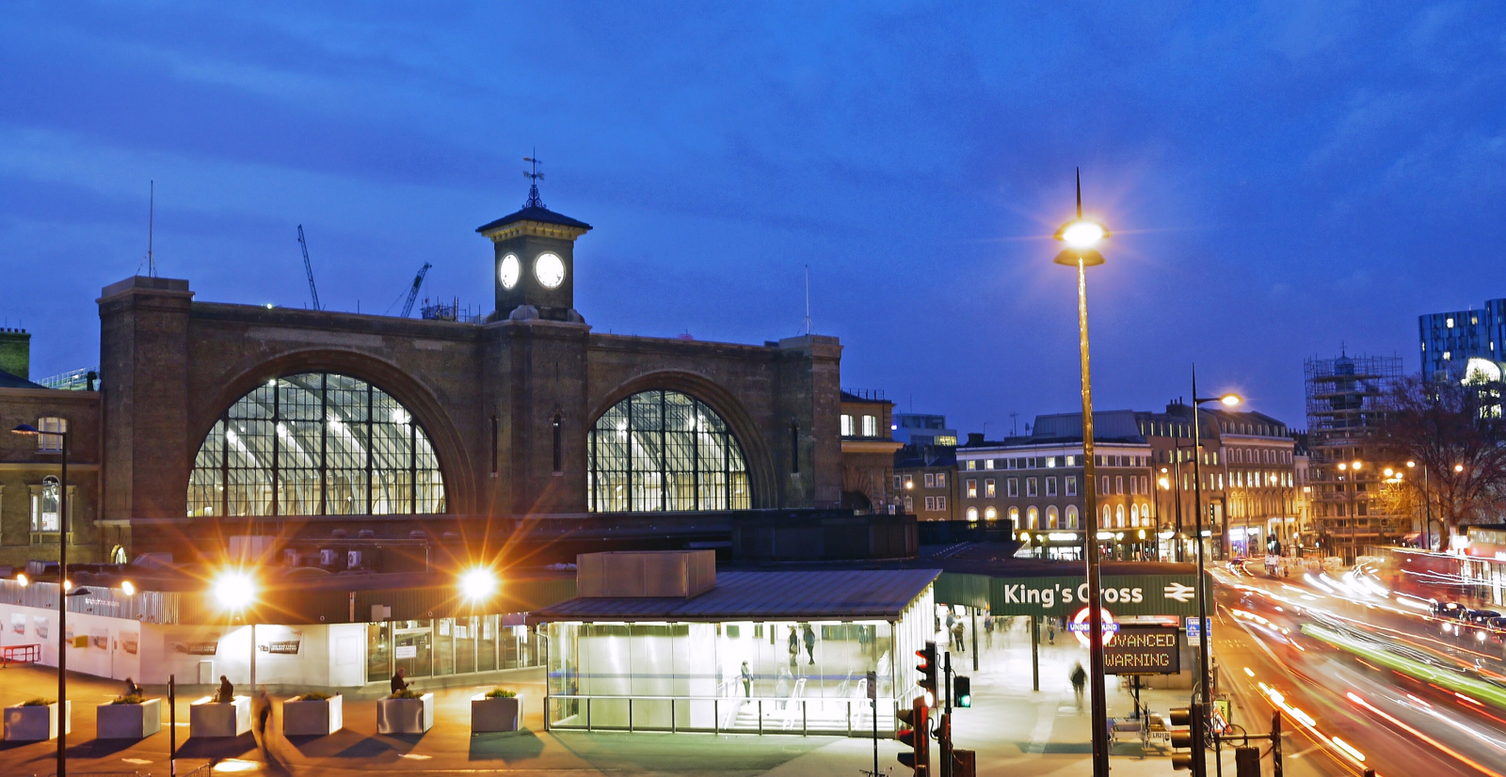fachada: (15, 156, 921, 559), (907, 429, 1314, 568), (1306, 331, 1425, 566), (1423, 292, 1506, 421)
poste: (1039, 149, 1143, 777), (11, 408, 115, 771), (1173, 373, 1258, 777)
